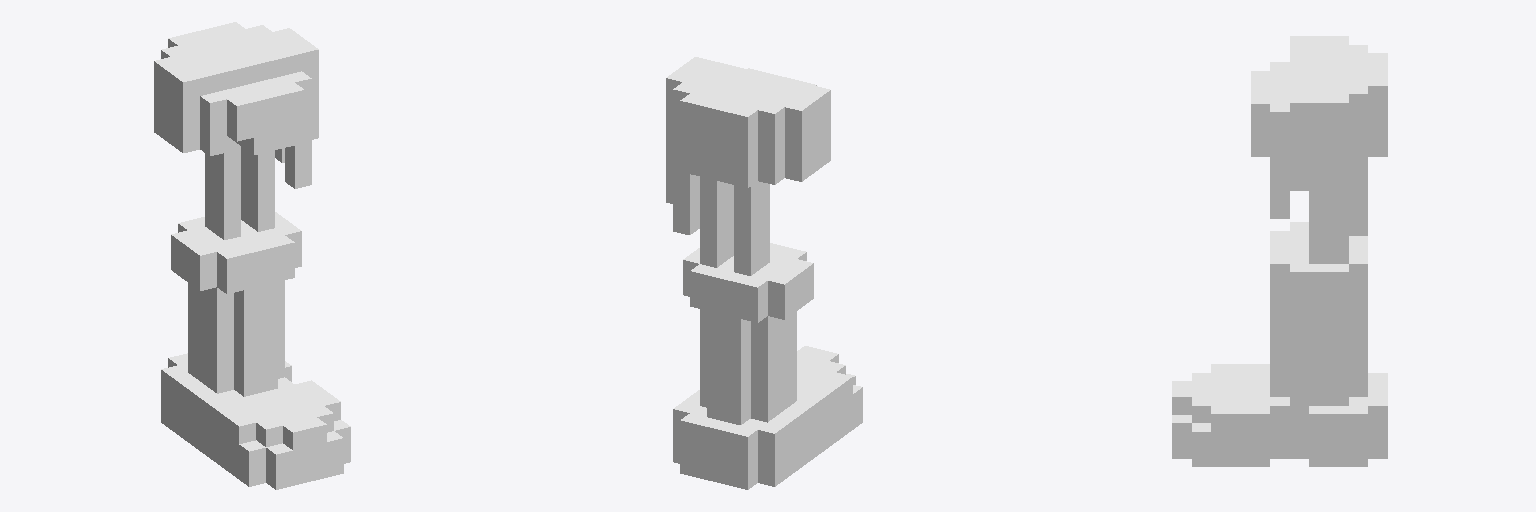
File: EnemySkeleton2-9.obj
The picture shows the model from 3 angles: view 1: azimuth 30°, elevation 25°; view 2: azimuth 150°, elevation 25°; view 3: azimuth 270°, elevation 25°; orthographic projection.
Visible parts, largest first — view 1: object 1; view 2: object 1; view 3: object 1.
Boxes of the visible parts, <box> form: object 1: <box>154,22,350,489</box>; object 1: <box>666,57,862,489</box>; object 1: <box>1172,36,1387,466</box>.
Size of the model in its own units: 0.8 by 2.1 by 1.1.